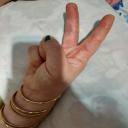PeaceSign: (20, 1, 116, 100)
